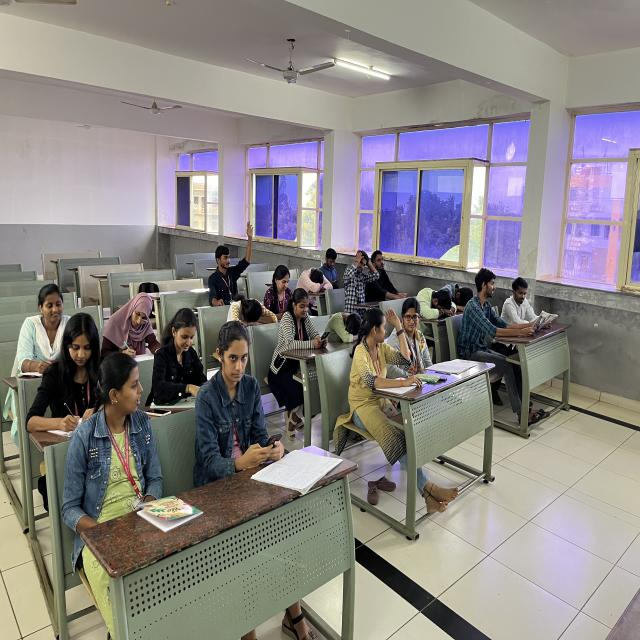Hand Rising: (208, 212, 257, 310)
Reading: (462, 268, 550, 367), (508, 274, 556, 346)
Sleeping: (220, 292, 282, 338), (411, 280, 457, 326), (316, 305, 368, 345), (435, 274, 477, 319), (296, 266, 336, 299)
Using Phone: (197, 329, 291, 473), (272, 290, 334, 358)
Writing: (30, 314, 104, 448), (109, 278, 167, 366)
